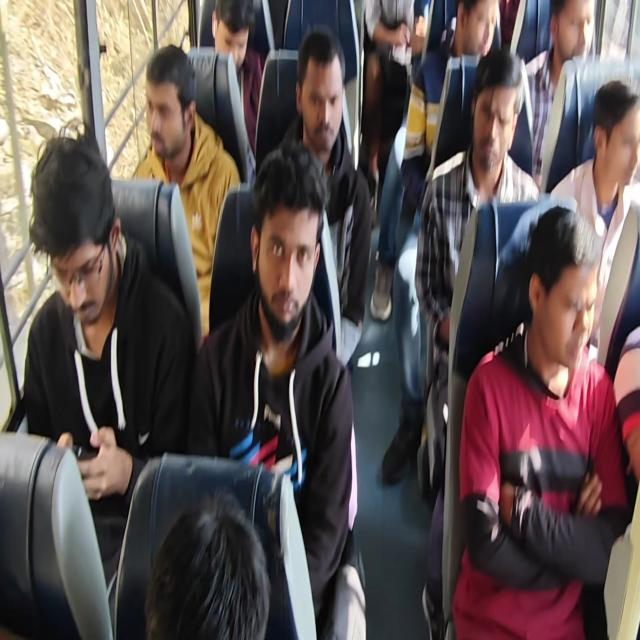person: (22, 125, 133, 329), (129, 482, 268, 640), (236, 149, 316, 340), (520, 202, 602, 372), (139, 41, 195, 177), (296, 6, 346, 157), (589, 68, 640, 207), (474, 36, 509, 208), (543, 6, 608, 61), (206, 2, 254, 73), (462, 0, 496, 69)
